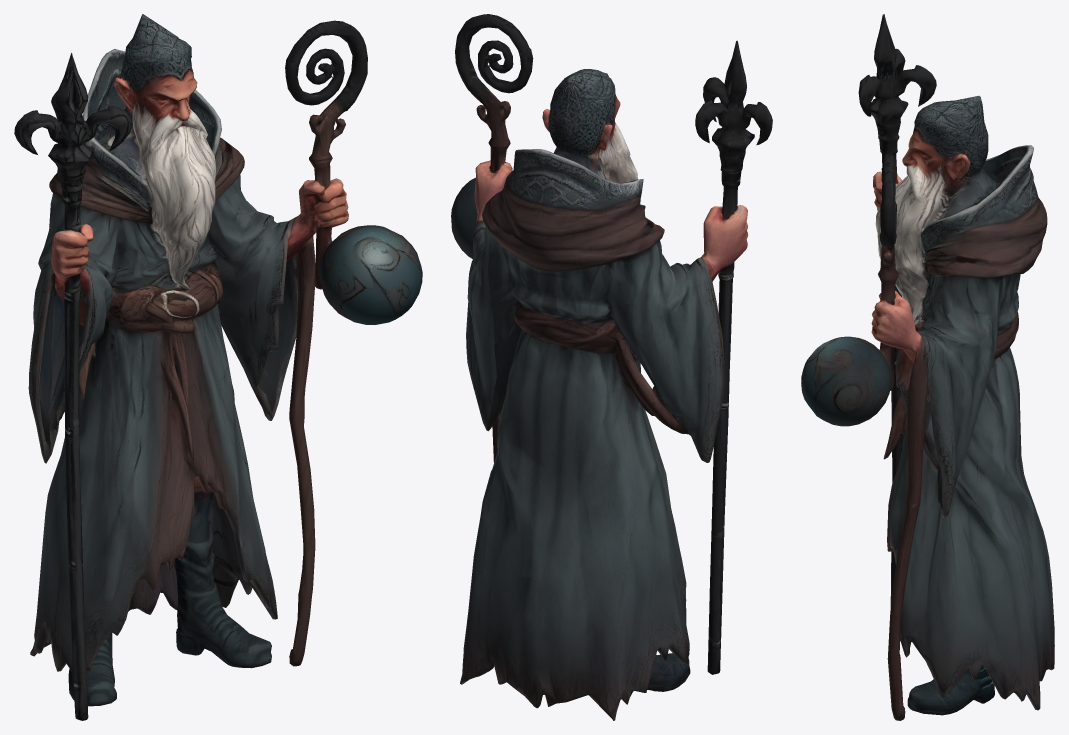
The model's file is malketh.fbx.
3 renders of one model, left to right at view 1: azimuth 30°, elevation 25°; view 2: azimuth 150°, elevation 25°; view 3: azimuth 270°, elevation 25°, orthographic. The views are drawn at different scales.
Parts seen in each view (by area): view 1: Mesh_0; view 2: Mesh_0; view 3: Mesh_0.
Boxes of the visible parts, box(x1,y1,x2,y2) form: Mesh_0: box(14, 14, 422, 720); Mesh_0: box(451, 14, 772, 720); Mesh_0: box(801, 14, 1054, 720).
Bounding box in the file's own units: 1.09 × 1.91 × 0.723.
Materials: 1 (1 with a texture image).
